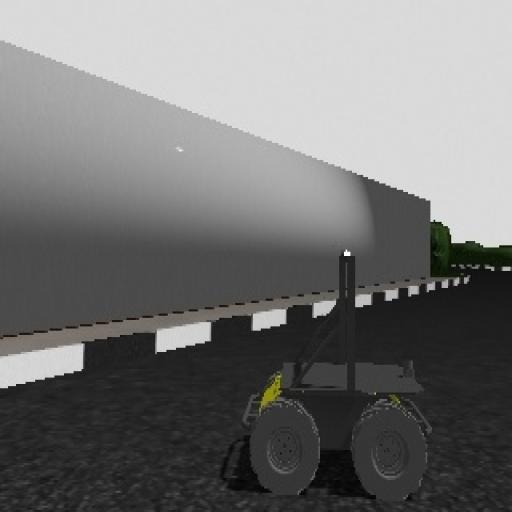huskya200: (208, 238, 440, 512)
